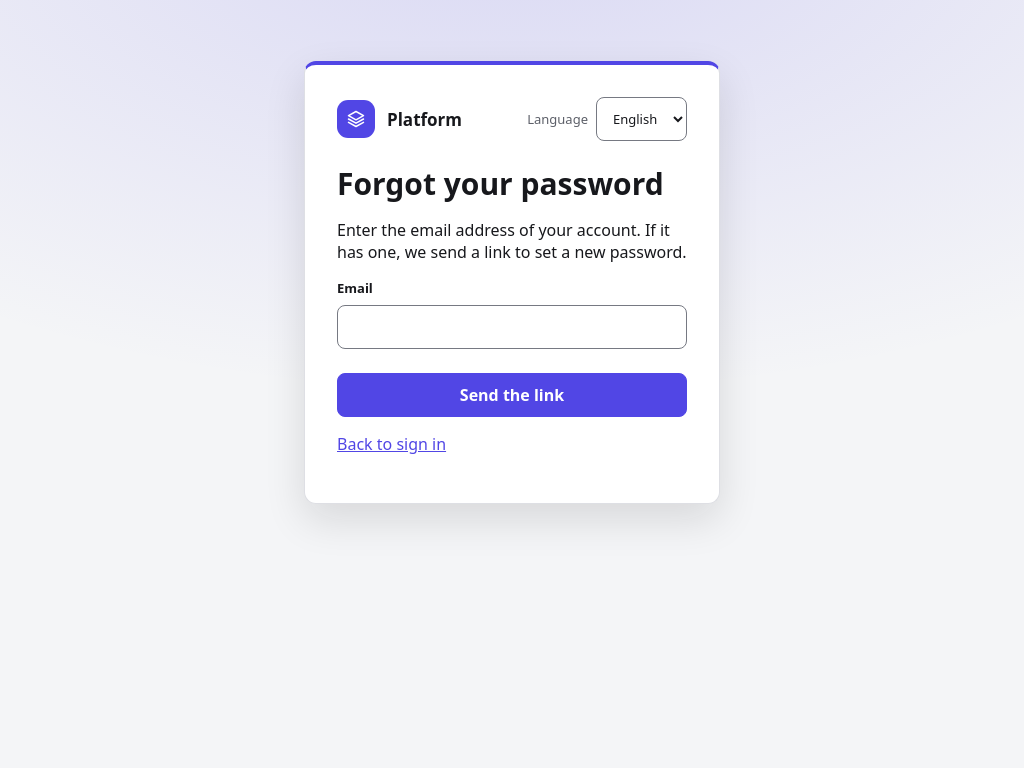
Scenario: forgot — one answer for every address (Amendment 01 §5.1) › shows the ip ceiling’s refusal, which depends on this caller alone (§5.2)
Type "someone@example.test" into the field labelled "Email". click: (512,327)
box: [337, 305, 687, 349]
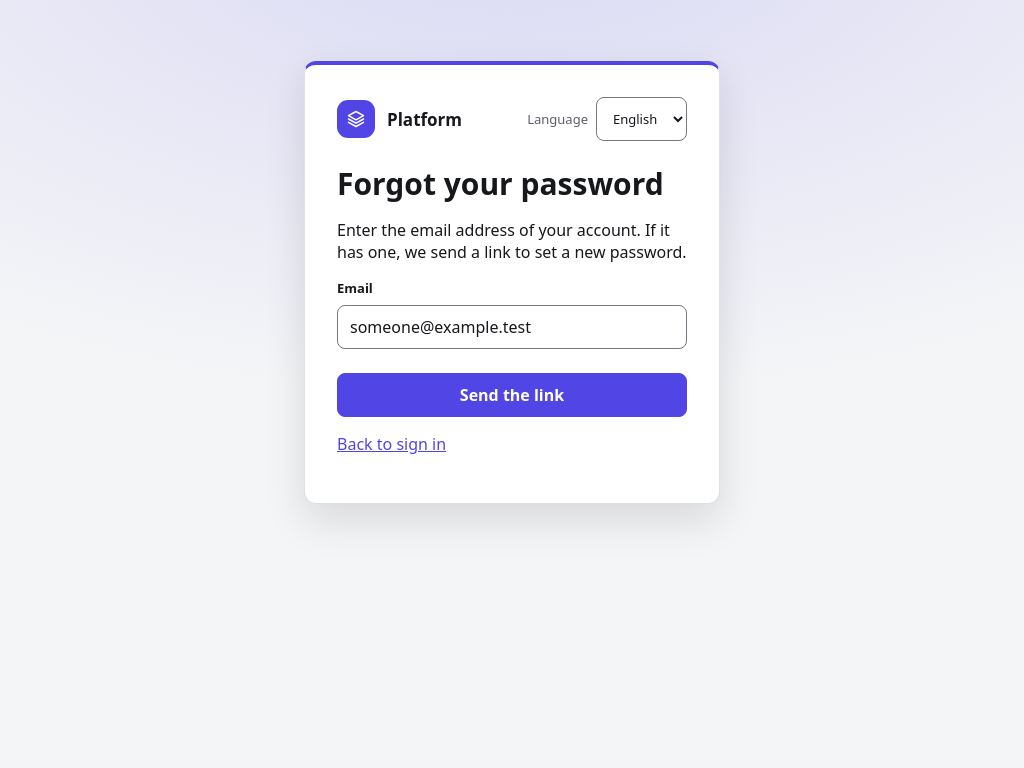
Click the button "Send the link". click: (512,395)
box: [337, 373, 687, 417]
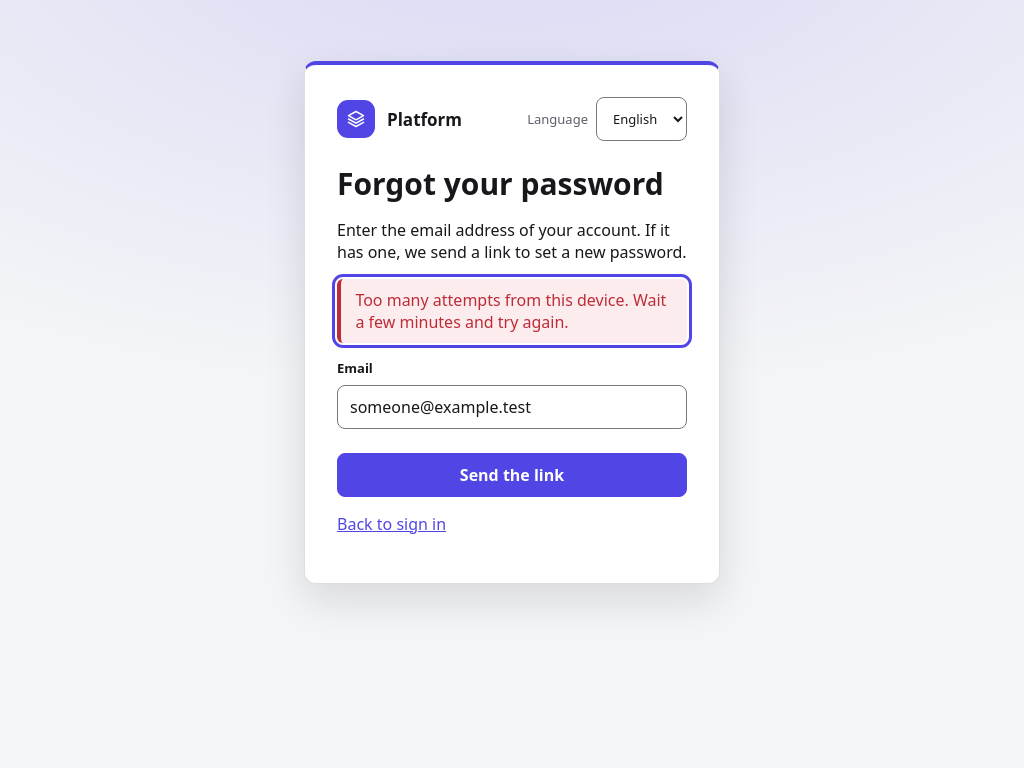
Check: the message shows "Too many attempts", box [355, 289, 666, 333]
